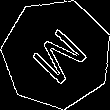M_SE: (22, 20, 91, 88)
